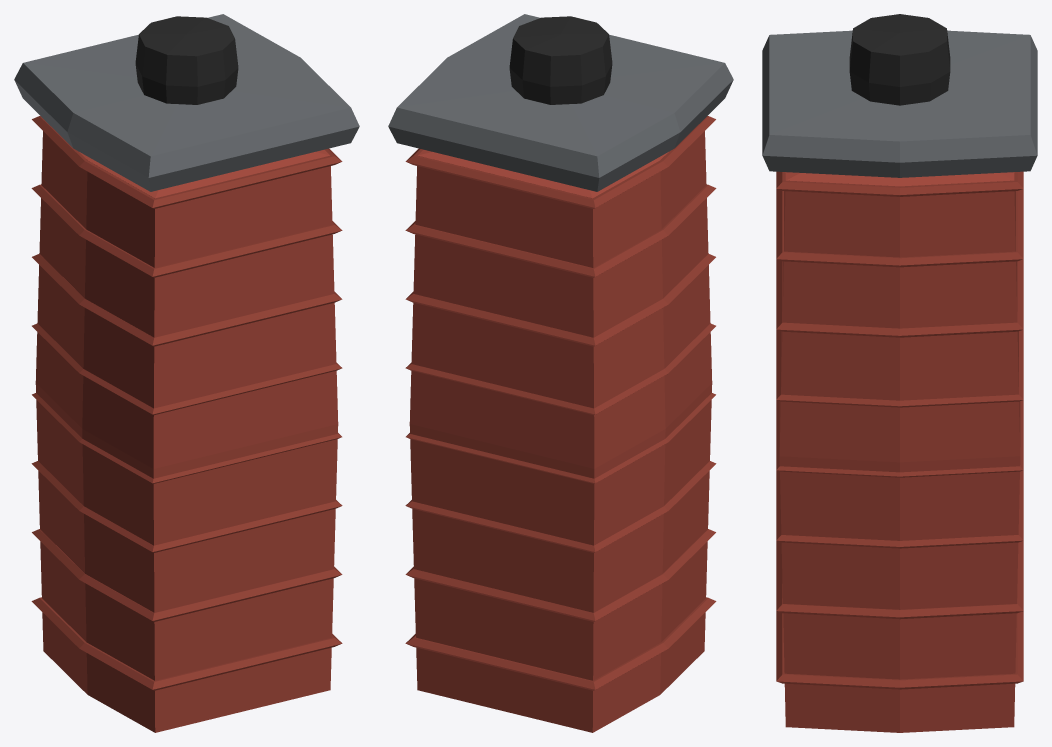
File: r-chimney.glb
3 views of the same model, side by side, from view 1: azimuth 30°, elevation 25°; view 2: azimuth 150°, elevation 25°; view 3: azimuth 270°, elevation 25° (orthographic). The views are drawn at different scales.
Visible parts, largest first — view 1: p; view 2: p; view 3: p.
Part boxes in pixels (left/top/right/bottom): p: left=14, top=14, right=359, bottom=732; p: left=388, top=14, right=733, bottom=732; p: left=762, top=14, right=1037, bottom=732.
Size of the model in its own units: 0.8 by 2.08 by 0.7796.
